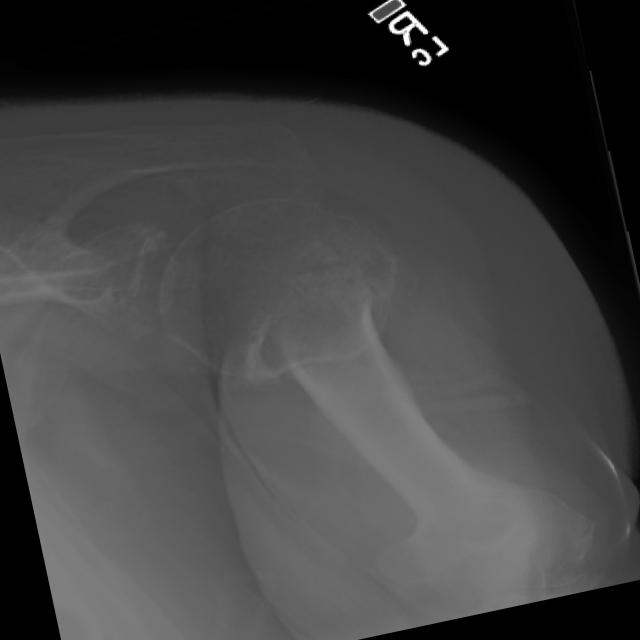shoulder fracture: (194, 248, 453, 483)
